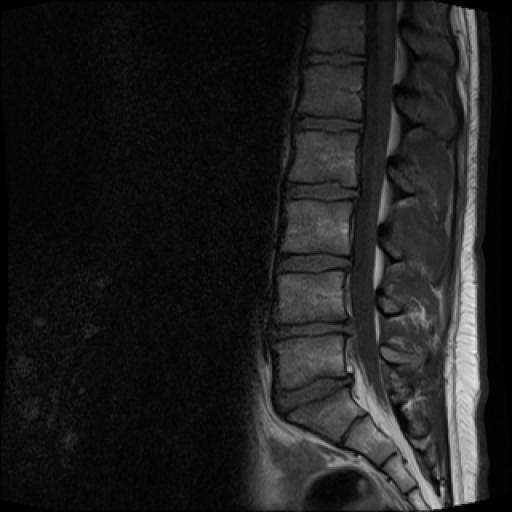L1: (298, 64, 362, 120)
L2: (290, 130, 356, 186)
L3: (282, 201, 352, 256)
L4: (276, 271, 347, 324)
L5: (277, 334, 346, 390)
S1: (286, 387, 367, 442)
